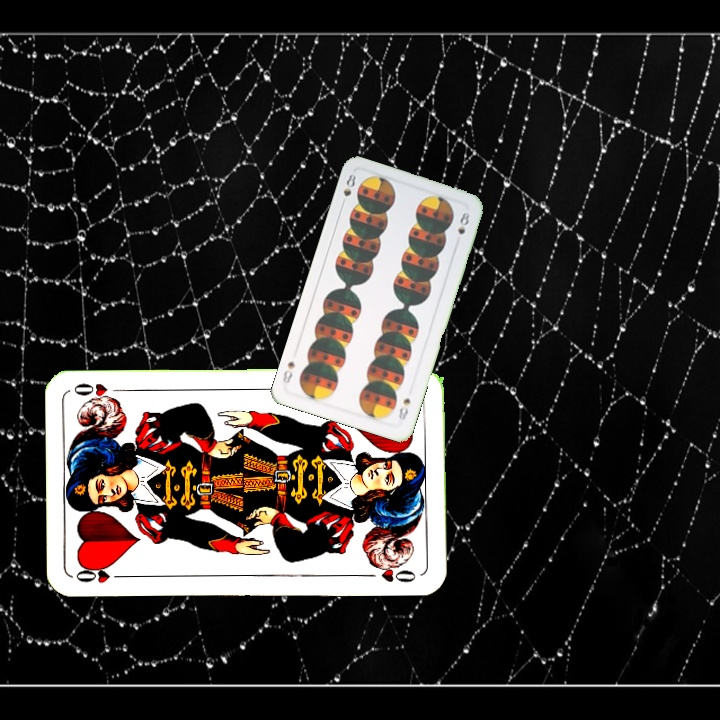HO: (71, 563, 130, 586)
S8: (337, 170, 359, 209), (394, 394, 413, 424)
